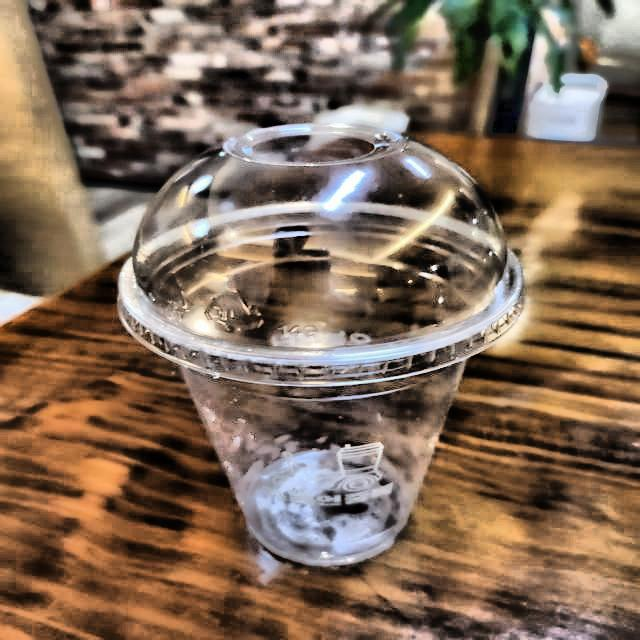plastic cup: (101, 115, 555, 585)
